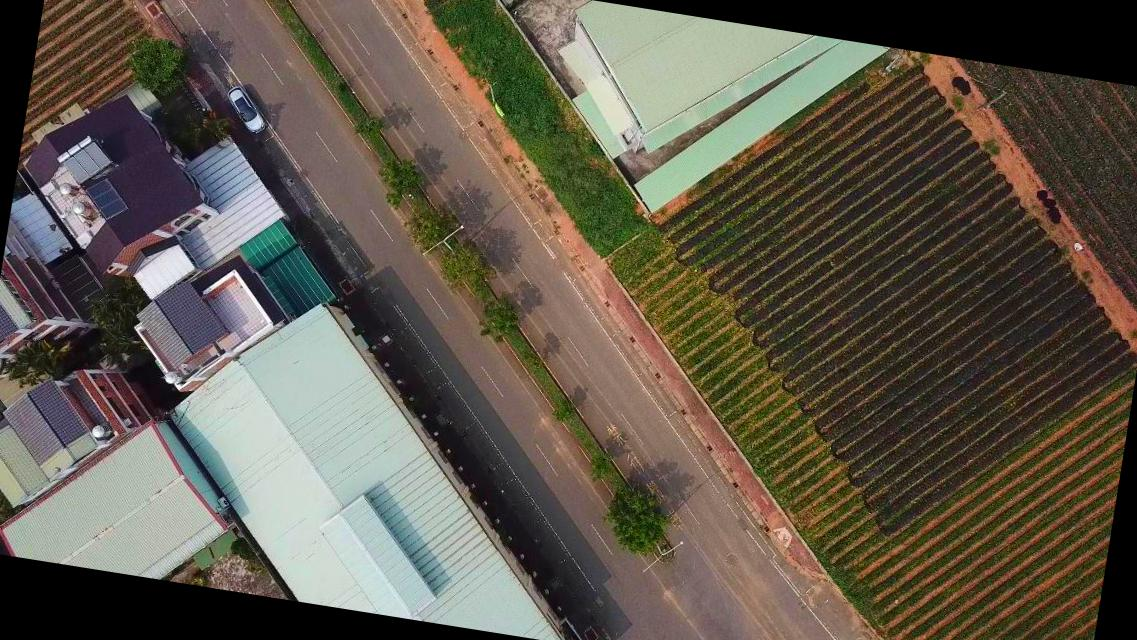vehicle: (222, 83, 270, 135)
